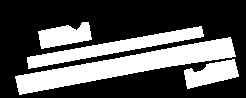parkingspot: (15, 37, 235, 94), (27, 26, 203, 68), (184, 59, 238, 88), (38, 22, 91, 48)
